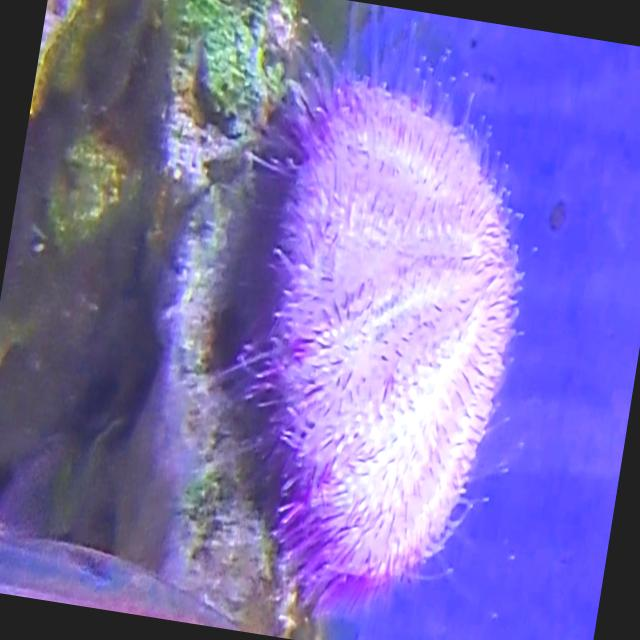Deniz Kestanesi: (181, 43, 572, 640)
